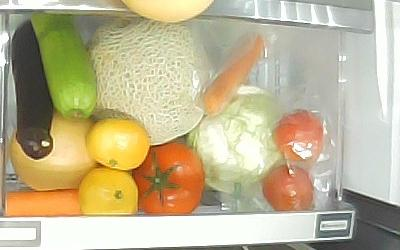cabbage: (187, 85, 282, 195)
carrot: (5, 189, 82, 216)
carrot_vinyl: (200, 33, 264, 115)
eggplant: (10, 19, 55, 160)
melon: (87, 18, 210, 143)
pear: (9, 114, 101, 191)
prune_vinyl: (274, 110, 327, 163), (262, 166, 313, 210)
tangerine: (87, 117, 151, 170), (79, 168, 137, 215)
tomato: (132, 143, 206, 215)
zucchini: (30, 12, 98, 120)
